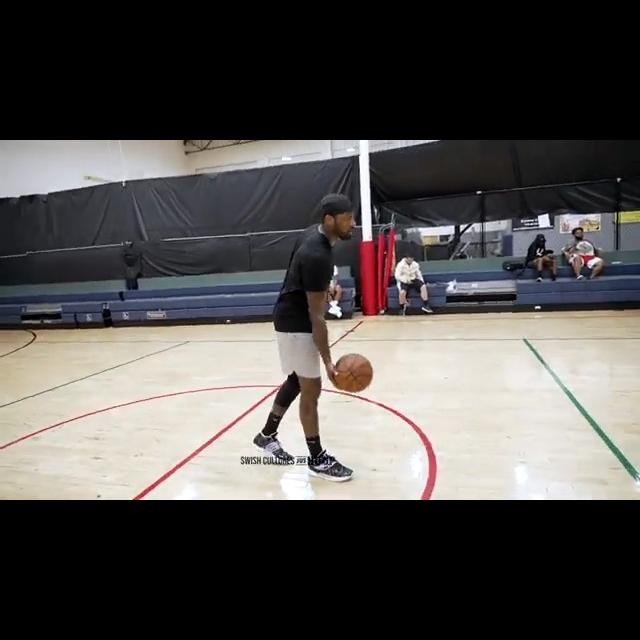basketball: (333, 353, 376, 393)
person: (254, 191, 369, 482), (394, 251, 434, 317), (562, 227, 605, 281), (525, 234, 562, 284)
